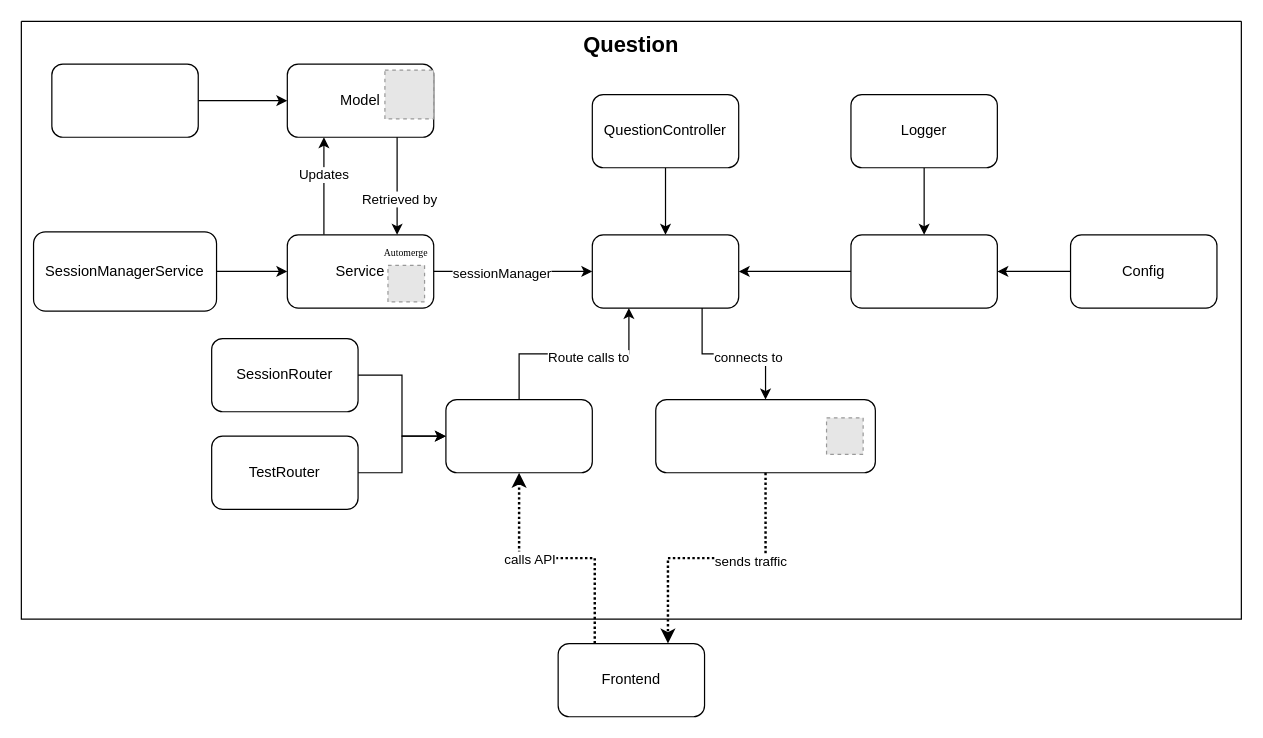
The diagram is 1263 pixels wide and 738 high, and some of its shapes have lost their labels. Grey dashed boxes stand in for pictures. The shapes that lost their labels are listed below. From the top down, each one's box as (x1, y1, x2, y2) in pixels, then its label:
(51, 63, 198, 137): SessionModel
(591, 234, 739, 308): Controller
(850, 234, 997, 308): Utils
(445, 398, 592, 473): Route
(655, 398, 875, 473): WebSocketServer
